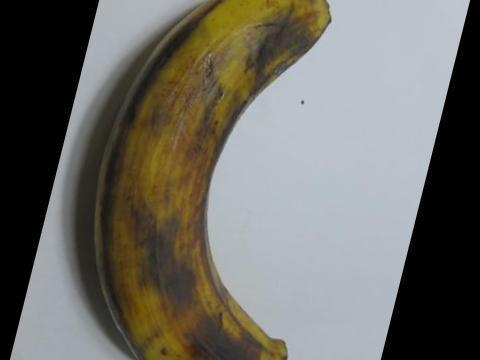overripe: (84, 0, 344, 359)
